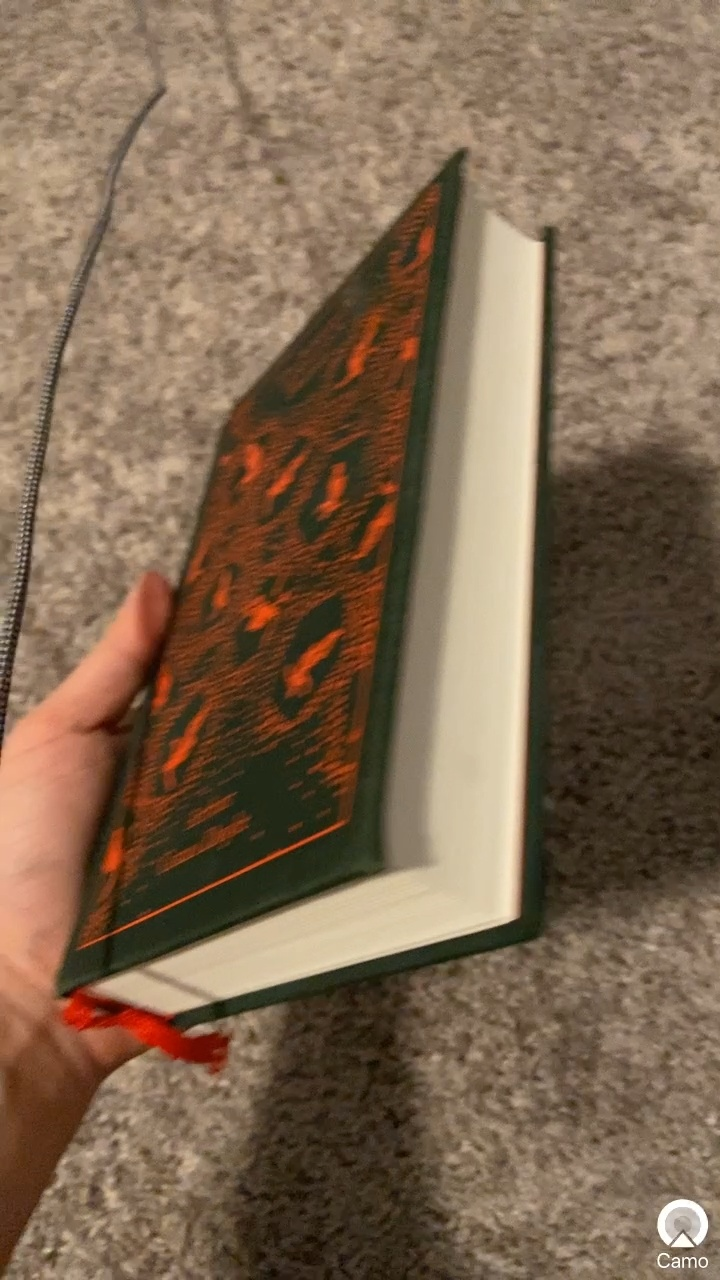Book: (48, 145, 609, 1079)
